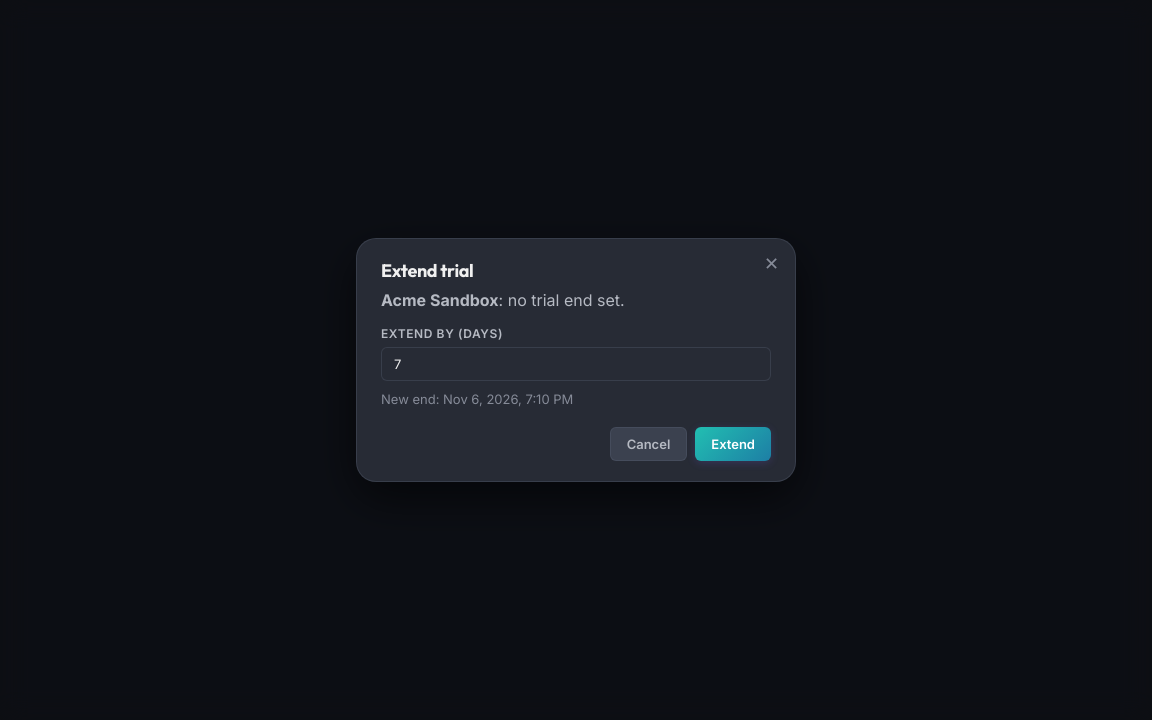
ExtendTrialDialog › disables saving for an invalid day count 0
This screenshot has width=1152, height=720.
Step 1. Replace the text in the number field labelled "Extend by (days)" with "0" → (576,364), box [381, 347, 771, 381]
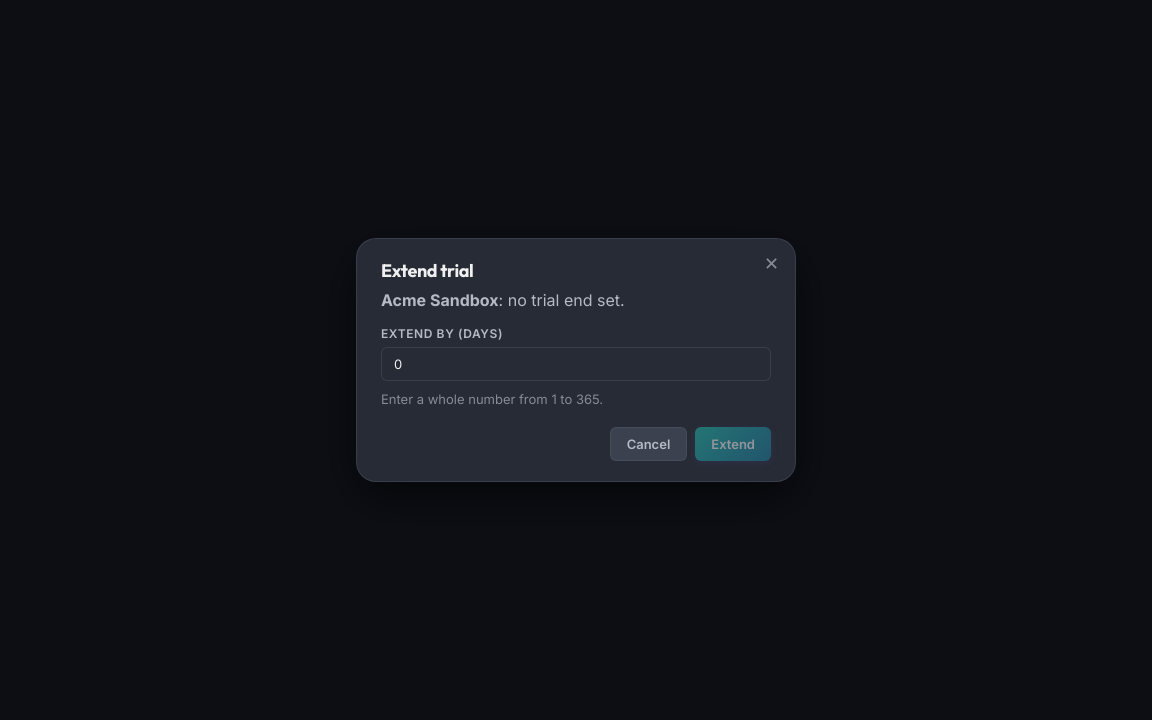
Check: the button "Extend" is disabled, box [695, 427, 771, 461]
Check: the text "Enter a whole number from 1 to 365." is shown, box [381, 391, 603, 407]
